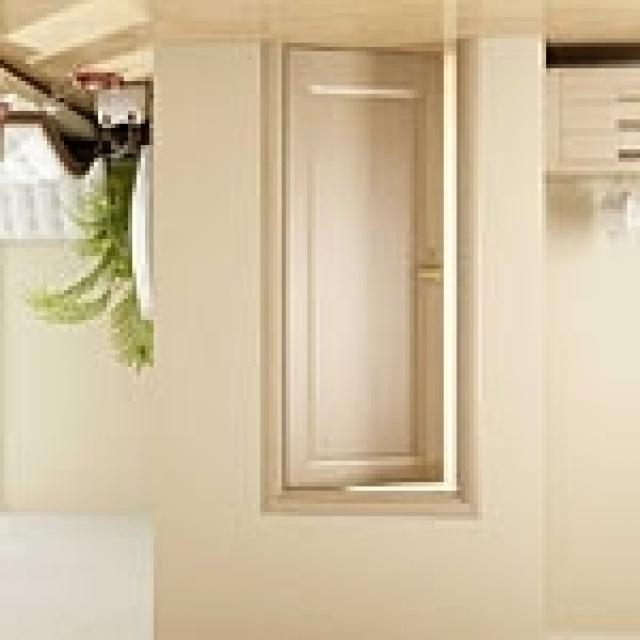open: (262, 37, 472, 510)
